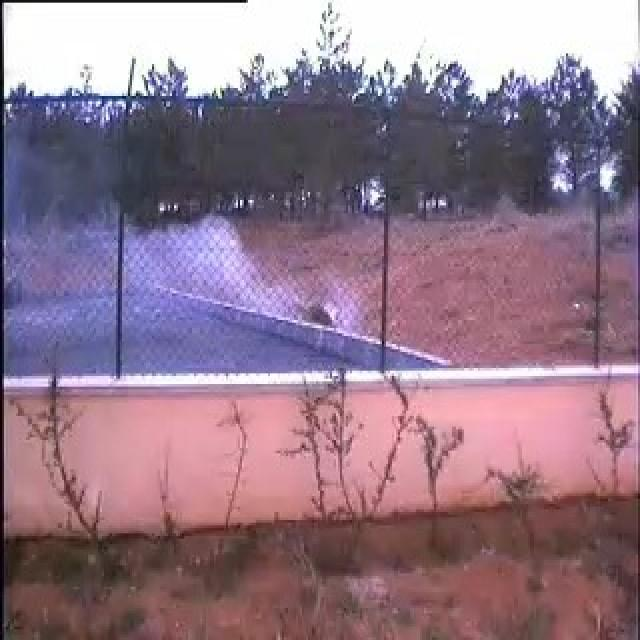smoke: (74, 186, 327, 370)
